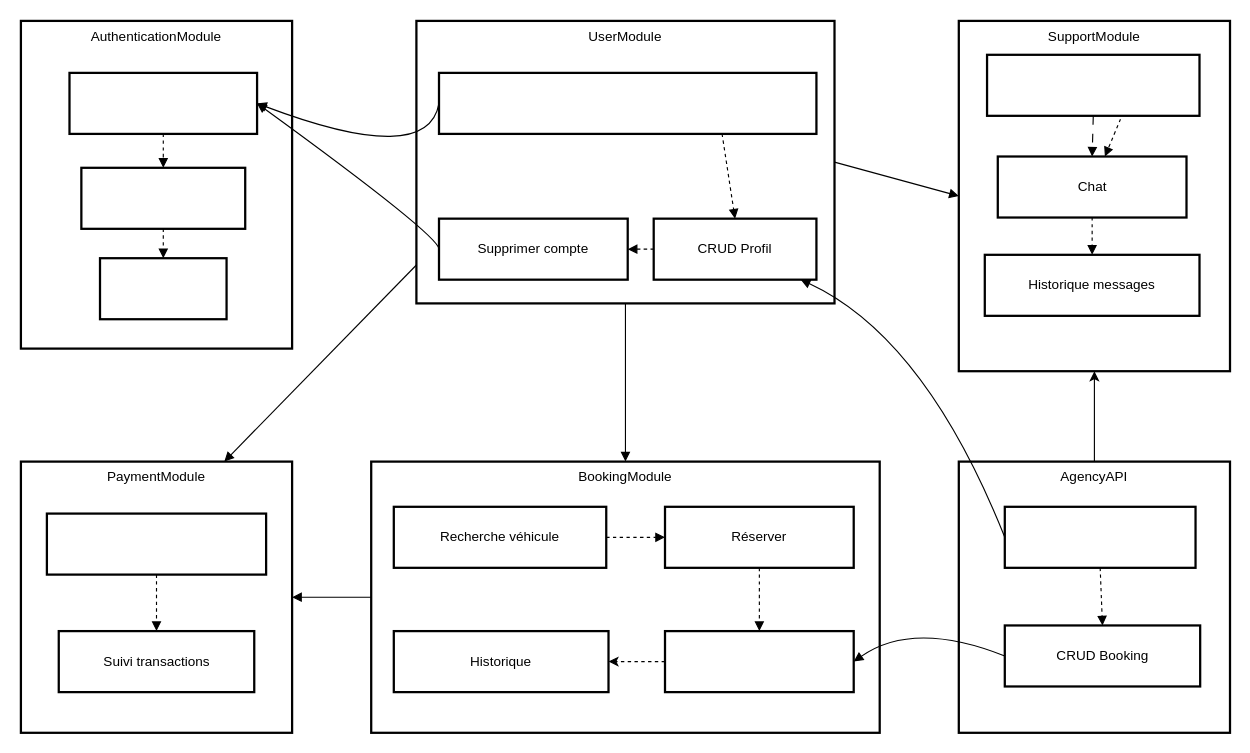
Image size: 1250x753. Some labels were removed from this diagram. The centre of each missing label's shape, as x and y in pixels:
"Connexion" belongs at point (163, 102).
"CRUD User" belongs at point (1099, 536).
"Créer un compte" belongs at point (627, 102).
"Déconnexion" belongs at point (163, 197).
"Formulaire support" belongs at point (1092, 84).
"JWT Token" belongs at point (162, 288).
"Modifier / annuler" belongs at point (758, 661).
"Paiement Stripe" belongs at point (156, 543).
